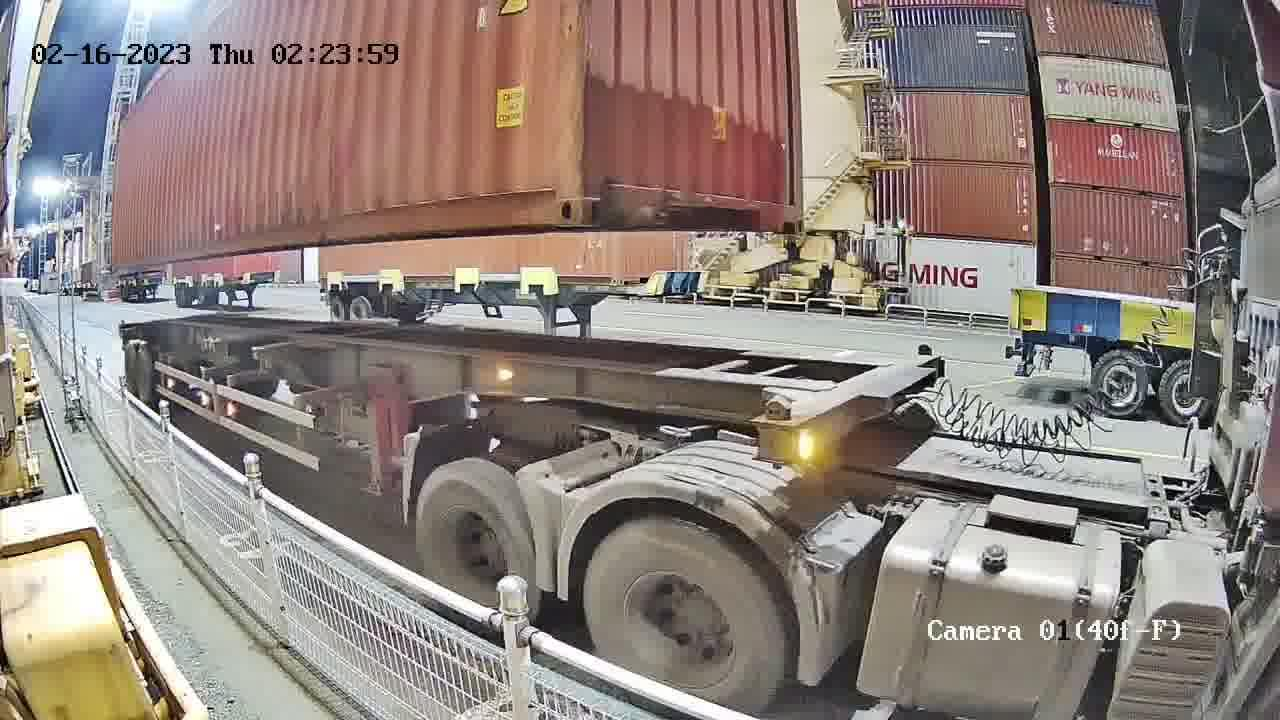Chassis: (750, 353, 940, 466)
Cone: (755, 395, 795, 464), (911, 342, 936, 360)
Hole_L: (580, 170, 640, 226)
Hole_R: (522, 171, 579, 224), (779, 197, 806, 234)
Tire: (585, 523, 784, 719), (417, 464, 539, 633)
